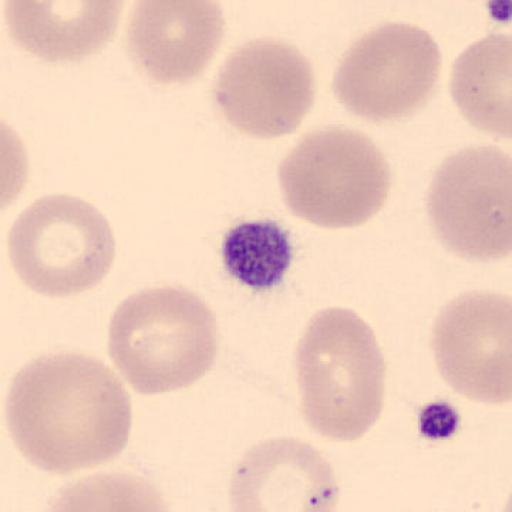Platelet: (218, 214, 296, 294)
RBC: (1, 346, 134, 476), (291, 305, 387, 444), (275, 122, 395, 232), (106, 284, 221, 396), (6, 192, 119, 300), (329, 19, 443, 125), (211, 34, 318, 142), (422, 142, 512, 264), (426, 285, 512, 407), (124, 0, 228, 87), (226, 434, 340, 511), (3, 0, 128, 66), (448, 30, 512, 140), (40, 469, 179, 512), (0, 118, 30, 214)
